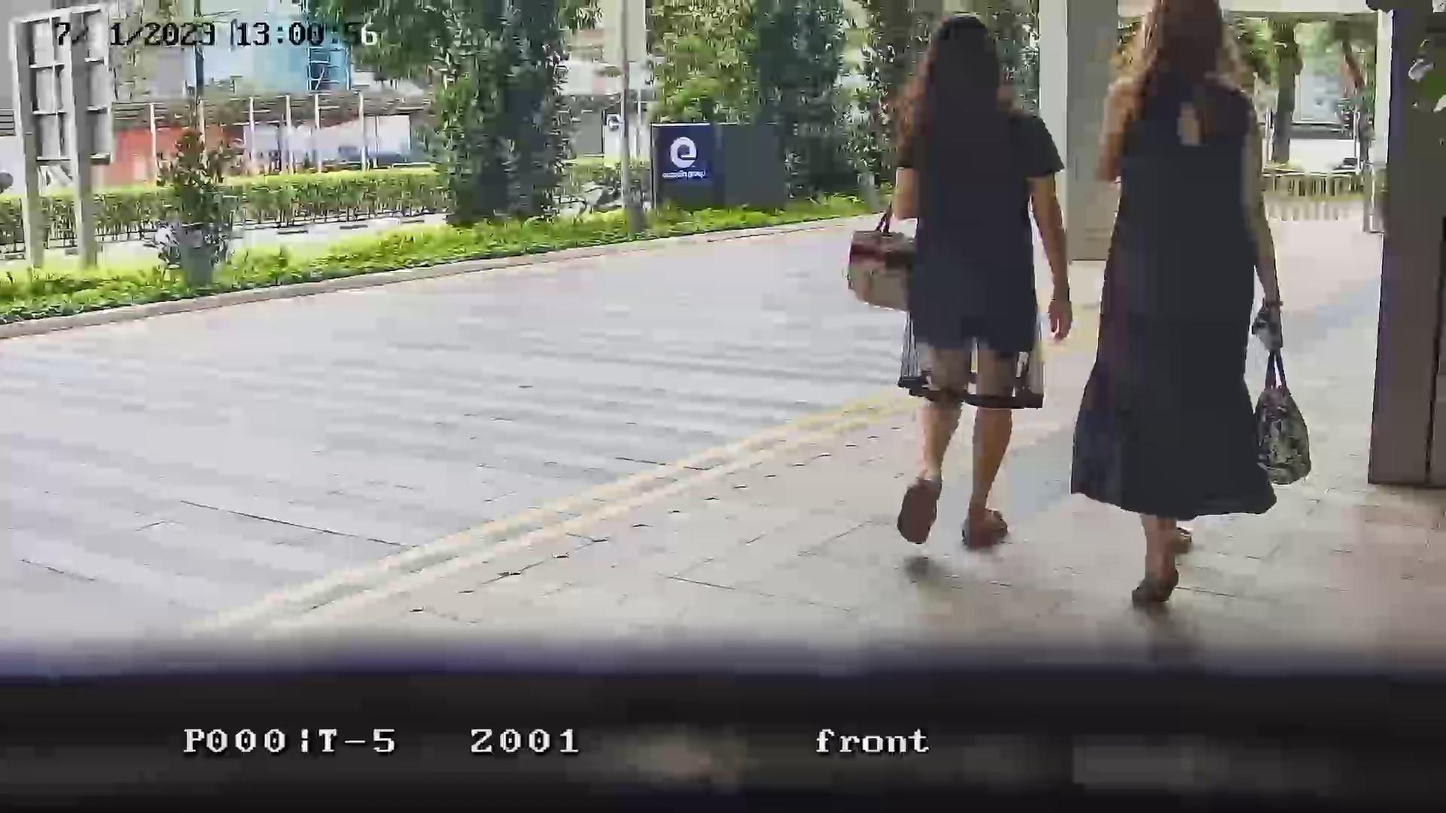person: (1069, 1, 1286, 609), (884, 11, 1075, 554)
